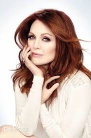female: (19, 15, 71, 83)
